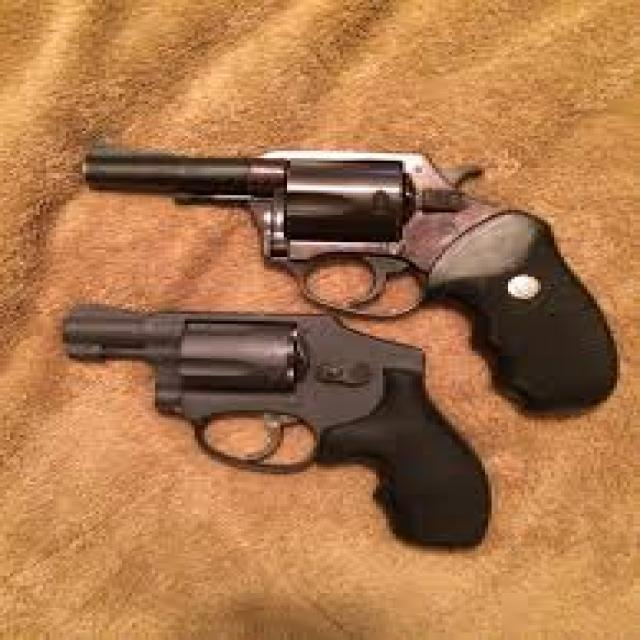Gun: (66, 150, 638, 426), (8, 275, 530, 544)
